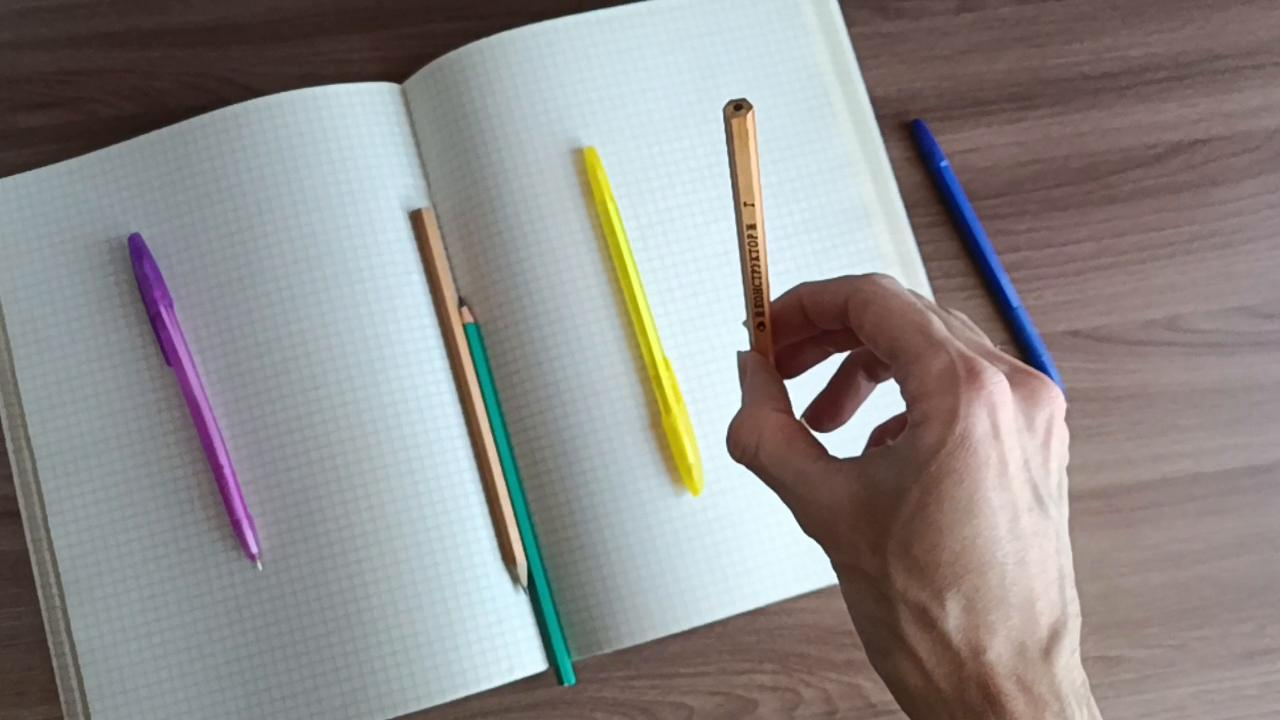pen: (126, 219, 271, 580), (904, 113, 1076, 411), (581, 136, 708, 506)
pencil: (401, 203, 533, 596), (456, 292, 581, 695), (724, 93, 784, 387)
